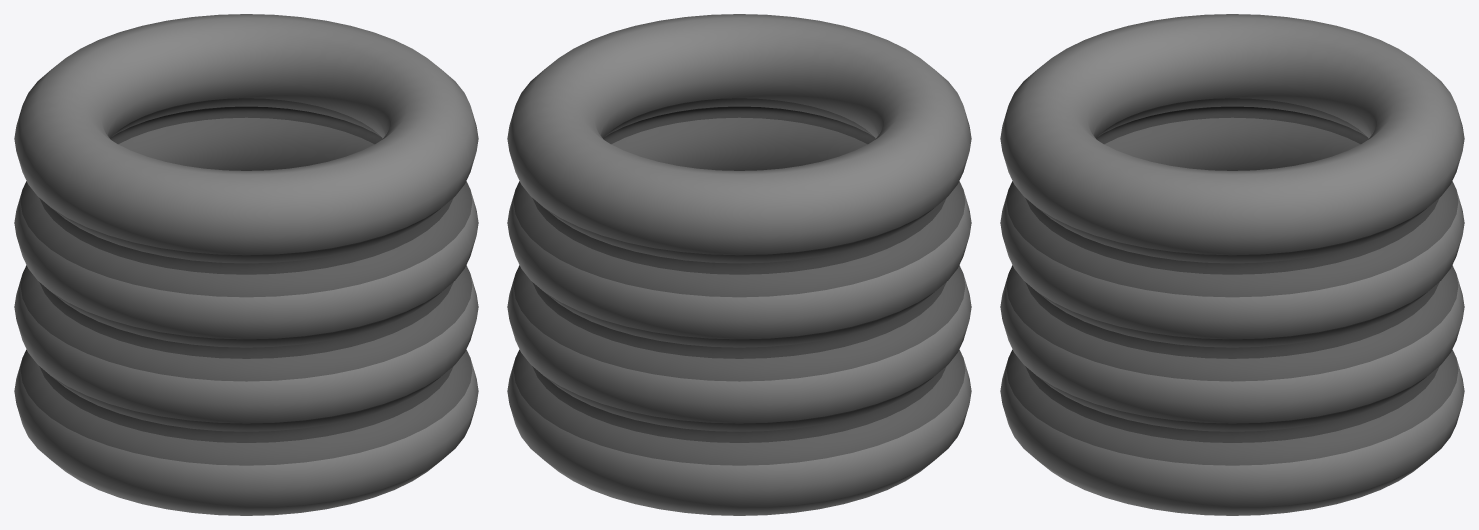
File: Drone1.glb
3 renders of one model, left to right at view 1: azimuth 30°, elevation 25°; view 2: azimuth 150°, elevation 25°; view 3: azimuth 270°, elevation 25°, orthographic.
Visible parts, largest first — view 1: Torus; view 2: Torus; view 3: Torus.
Boxes of the visible parts, x1=… form: Torus: x1=14, y1=14, x2=478, y2=515; Torus: x1=507, y1=14, x2=971, y2=515; Torus: x1=1000, y1=14, x2=1464, y2=515.
Size of the model in its own units: 10 by 8 by 10.
Materials: 1 (1 with a texture image).
